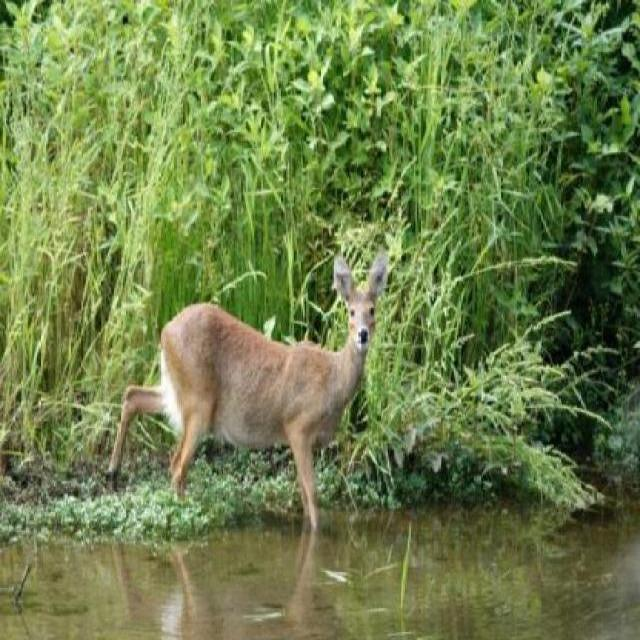deer: (103, 248, 391, 535)
